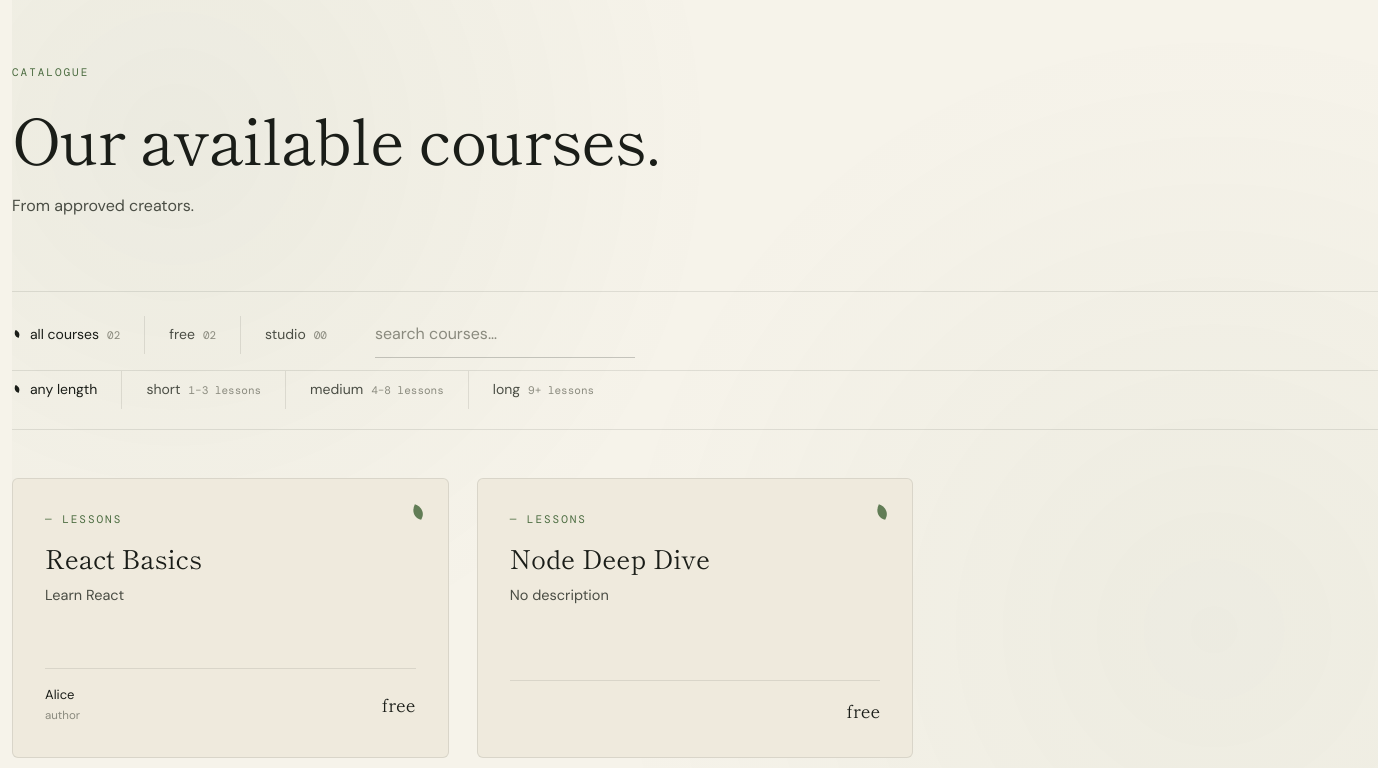
it: Courses › filters courses by search text
This screenshot has width=1378, height=768.
Expected: the heading "React Basics" is shown, [45,539,202,576]
Type "node" into the search field labelled "search courses…".
click(505, 335); type("node")  # box [375,312,635,358]
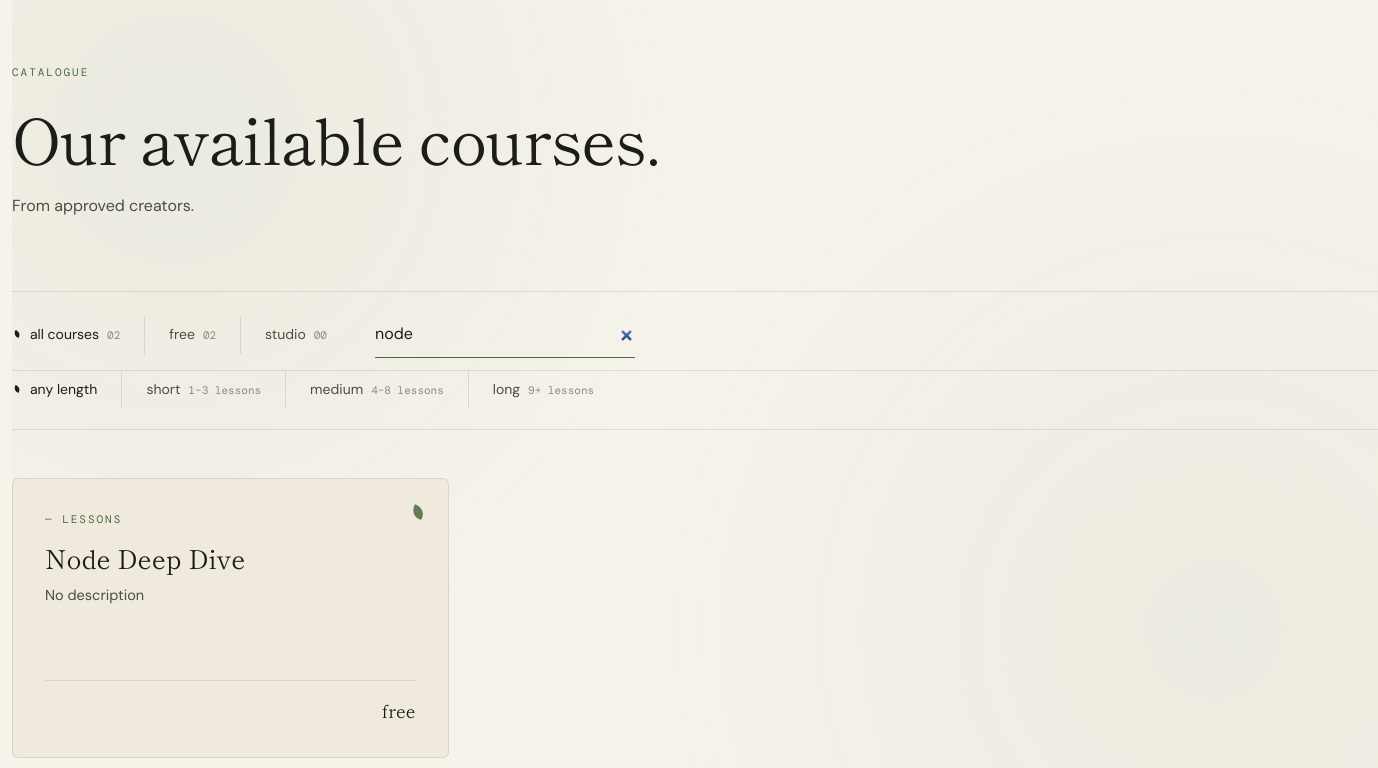
Expected: the heading "Node Deep Dive" is shown, [45,539,246,576]
Expected: the link "React Basics" is gone
